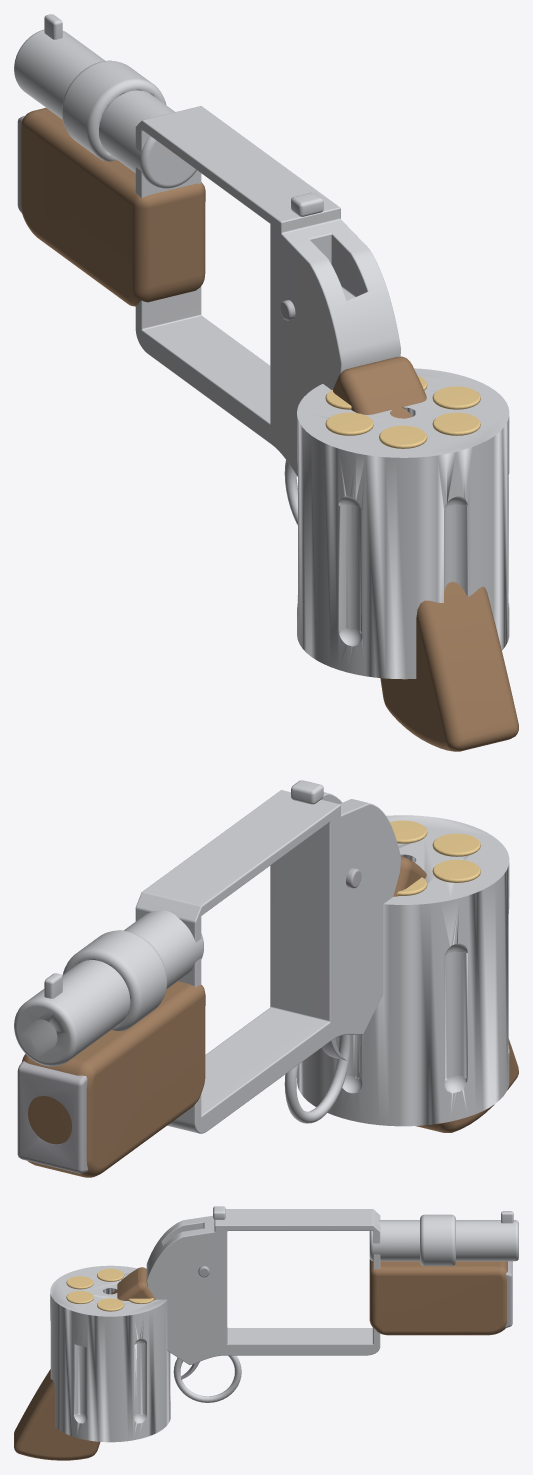
File: revolver.glb
3 renders of one model, top to bottom at view 1: azimuth 30°, elevation 25°; view 2: azimuth 150°, elevation 25°; view 3: azimuth 270°, elevation 25°, orthographic. The views are drawn at different scales.
Visible parts, largest first — view 1: Revolver, Cylinder; view 2: Revolver, Cylinder; view 3: Revolver, Cylinder.
Part boxes in pixels (box(x1,y1,x2,y2)): Revolver: box(14, 14, 518, 751); Cylinder: box(297, 368, 509, 679); Revolver: box(14, 780, 518, 1177); Cylinder: box(297, 815, 509, 1126); Revolver: box(14, 1206, 518, 1460); Cylinder: box(50, 1265, 170, 1442).
Bounding box in the file's own units: 0.0871 × 0.1948 × 0.3648.
